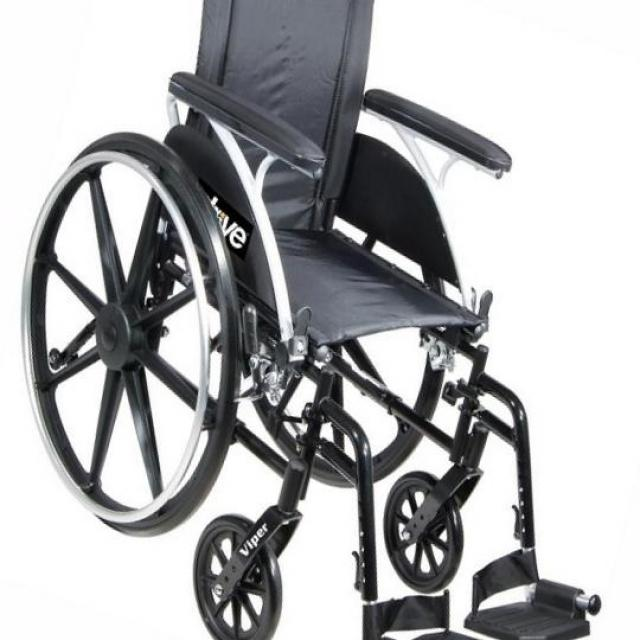wheelchair: (21, 0, 622, 640)
